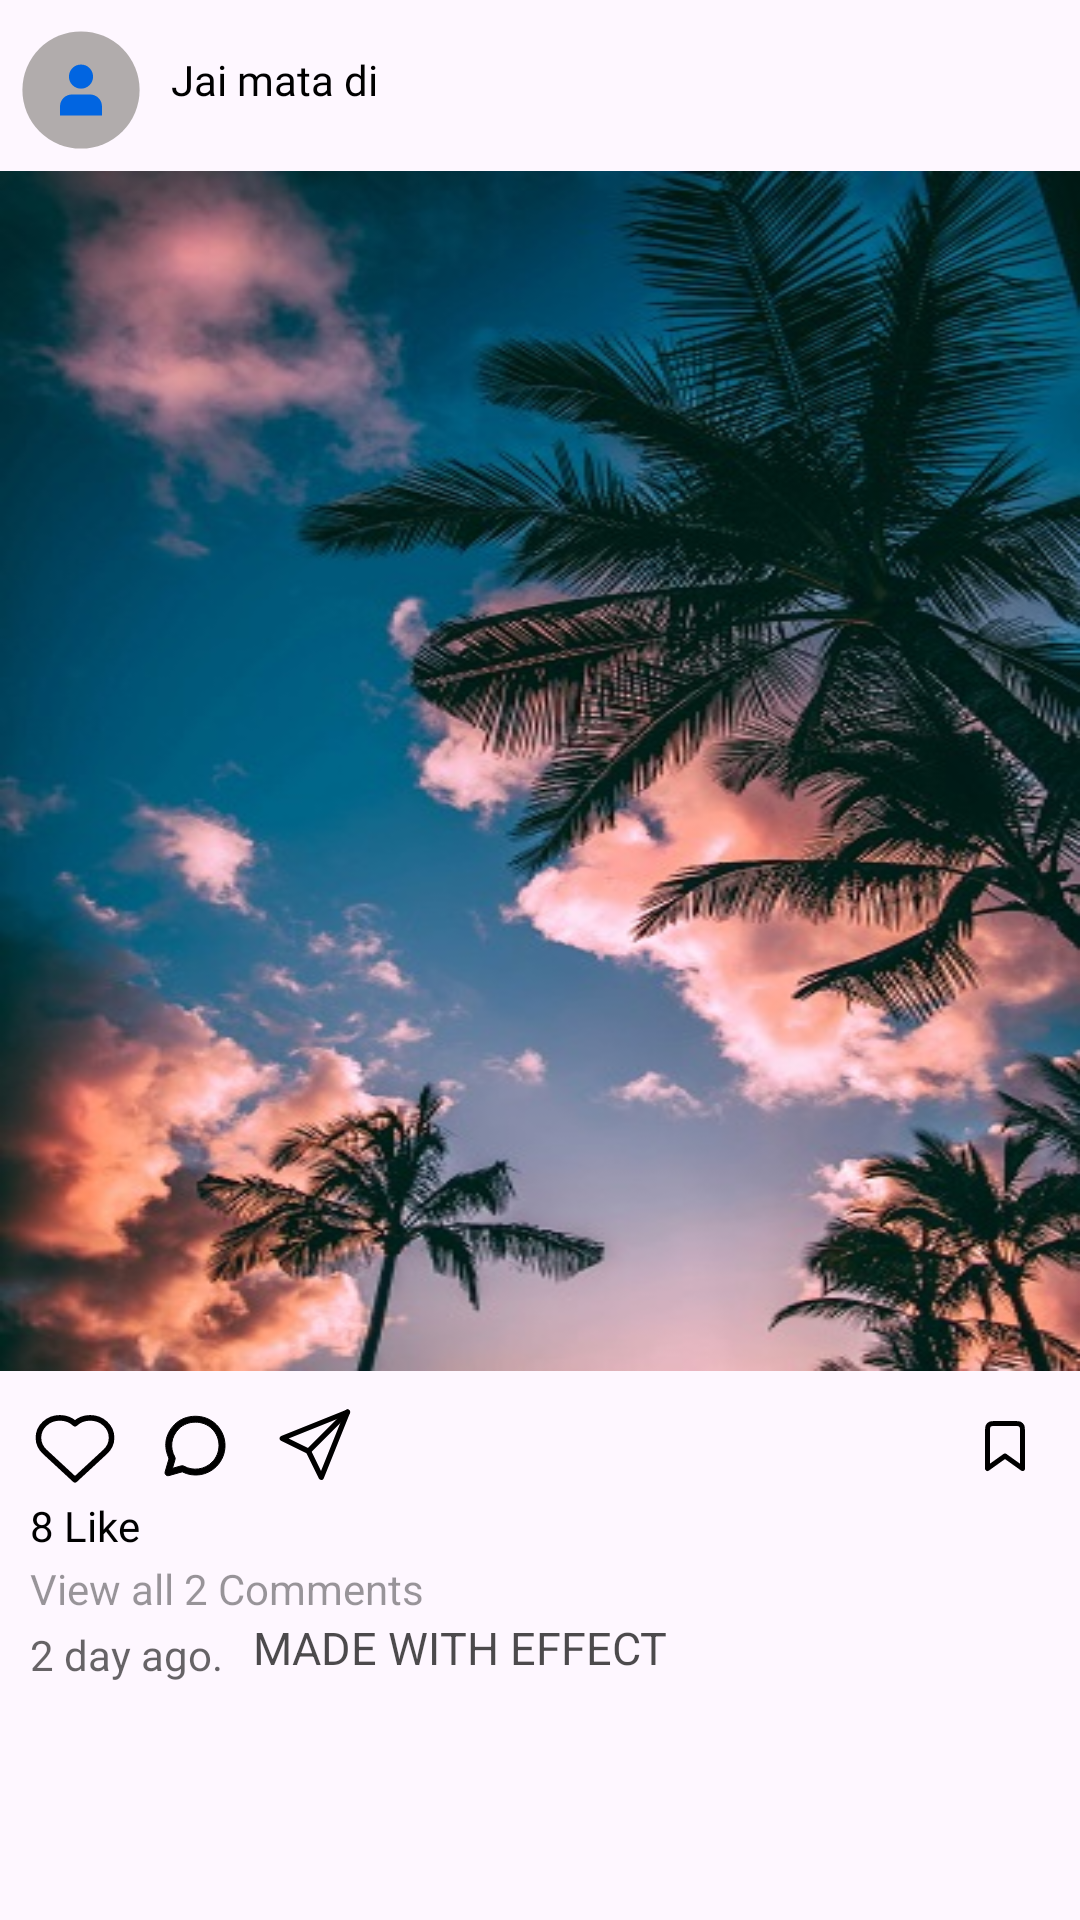

Icons on this 1080*1920 Android screen, each with its box as {"x1": x1, "y1": y1, "x2": x2, "y2": y2}:
bookmark: {"x1": 985, "y1": 1421, "x2": 1025, "y2": 1471}
heart: {"x1": 35, "y1": 1415, "x2": 115, "y2": 1483}
profile: {"x1": 22, "y1": 31, "x2": 140, "y2": 149}
send: {"x1": 279, "y1": 1409, "x2": 351, "y2": 1480}
